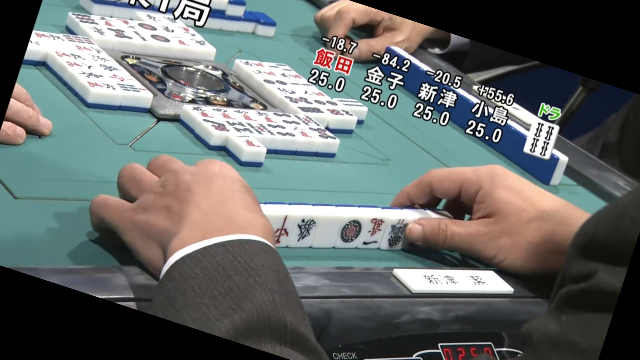Tehai: (154, 182, 469, 243)
